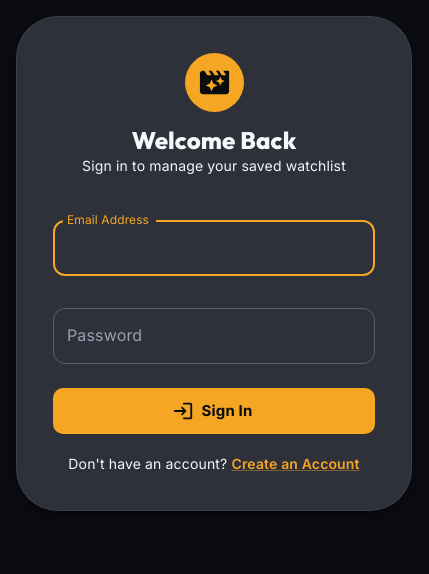
Test: Authentication Form Integration Tests › LoginPage › validates email format properly
Type "not-an-email" into the field labelled "Email Address". click: (214, 248)
box: [53,220,375,276]
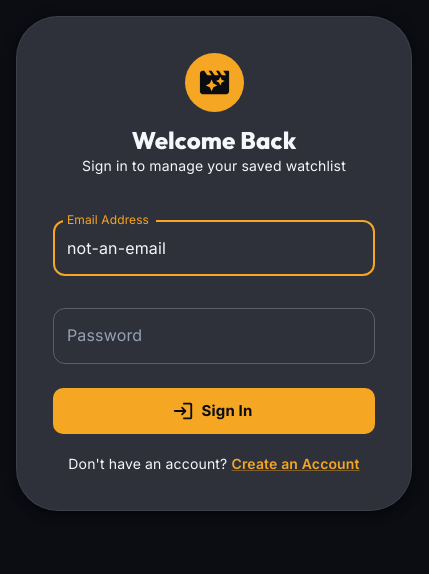
Click the button "Sign In". click: (214, 411)
box: [53,388,375,434]
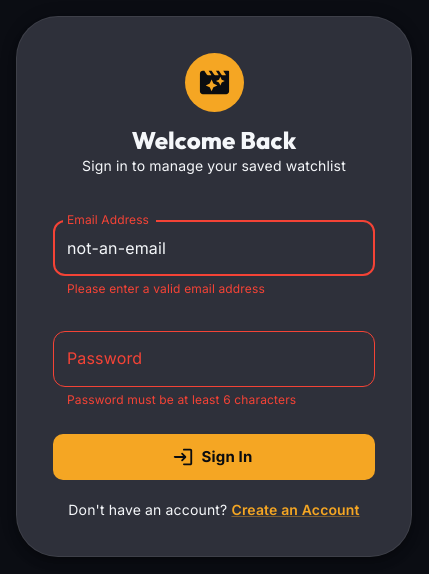
Expected: the text "Please enter a valid email address" is shown, [67,281,265,296]
